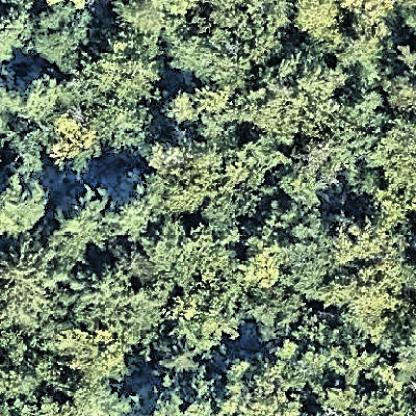tree-top: (142, 138, 274, 218), (254, 56, 345, 140), (218, 355, 314, 416), (47, 188, 121, 264), (202, 1, 293, 62), (1, 247, 66, 329), (2, 76, 99, 123), (59, 329, 133, 390), (31, 1, 96, 70), (166, 288, 236, 352), (182, 40, 255, 94), (97, 49, 168, 104), (146, 218, 202, 286), (1, 170, 52, 242), (336, 220, 406, 270), (344, 268, 396, 335), (1, 337, 62, 393), (71, 267, 127, 327), (283, 230, 336, 293), (342, 92, 391, 156), (104, 100, 156, 160), (236, 239, 291, 292), (239, 288, 315, 326), (120, 288, 170, 345), (68, 378, 143, 416), (117, 1, 192, 39), (290, 1, 347, 49), (380, 123, 416, 197), (335, 36, 386, 87), (1, 120, 58, 160), (105, 196, 154, 241), (55, 118, 97, 162), (344, 1, 392, 39), (1, 1, 34, 53), (374, 190, 412, 227), (382, 75, 416, 114)
